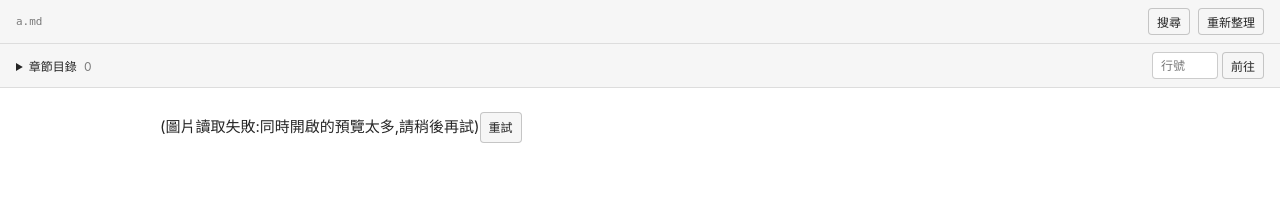
Test: Markdown 圖片被上限拒絕後可重試同一圖片
Click the button "重試". click: (501, 128)
box: top-left (480, 112), bottom-right (522, 143)
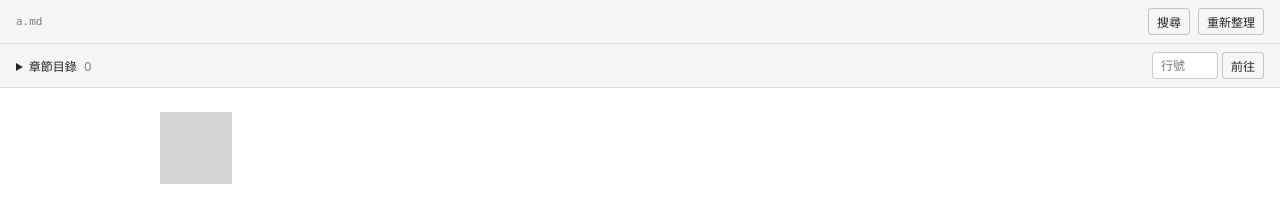
Expected: the button "重試" is gone
